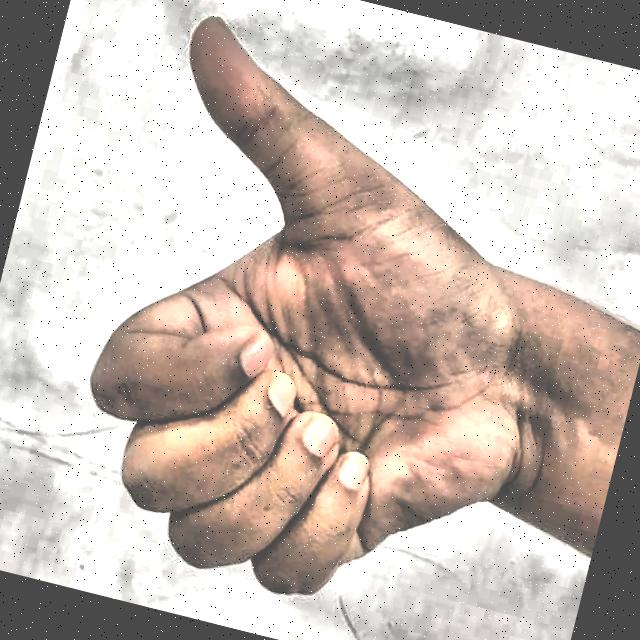Do: (23, 0, 619, 640)
